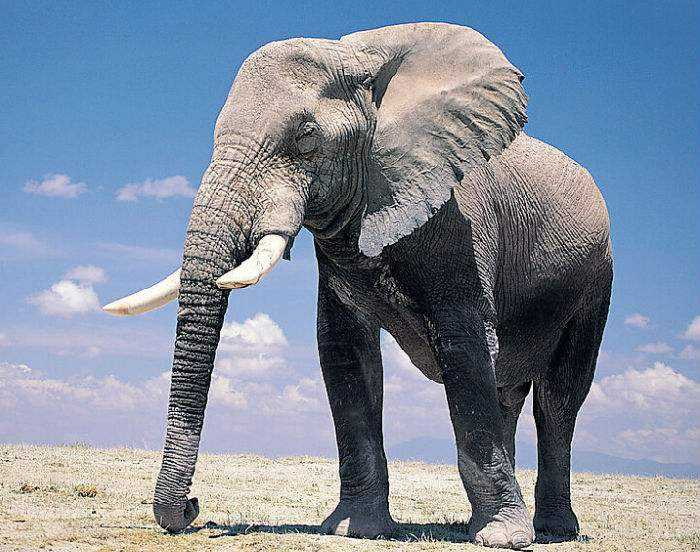elephant: (102, 21, 617, 552)
